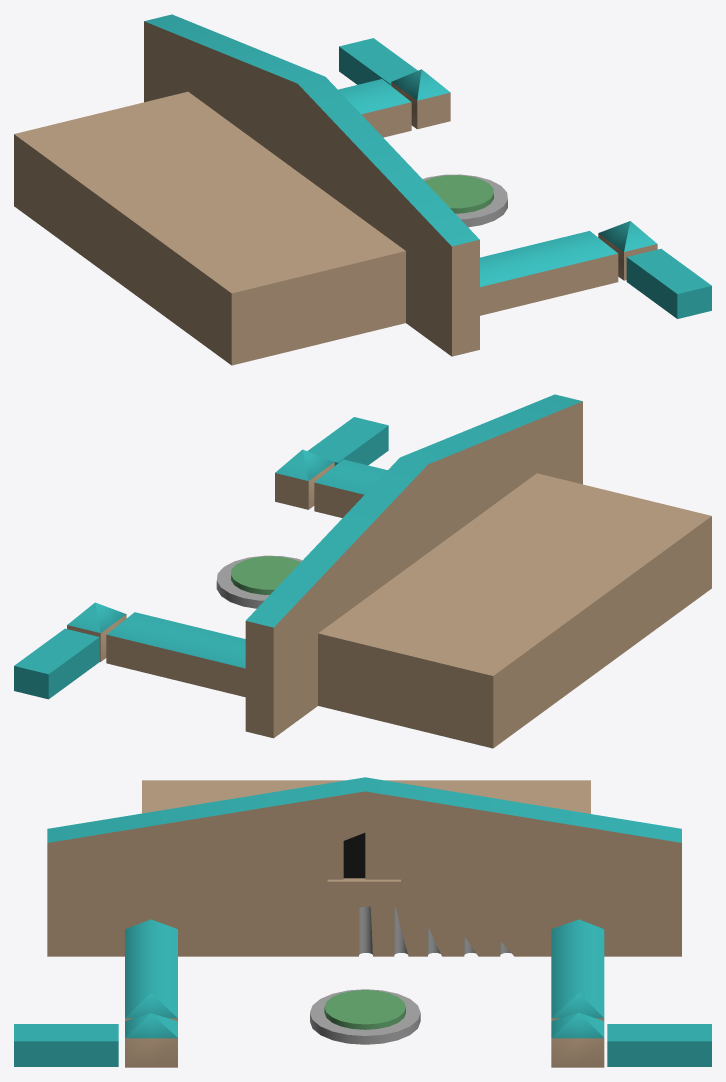
File: square1.fbx
The picture shows the model from 3 angles, top to bottom: view 1: azimuth 30°, elevation 25°; view 2: azimuth 150°, elevation 25°; view 3: azimuth 270°, elevation 25°; orthographic projection. The views are drawn at different scales.
Parts seen in each view (by area): view 1: pCube21; view 2: pCube21; view 3: pCube21.
Boxes of the visible parts, x1,y1,x2,y2 form: pCube21: (14,14,711,365); pCube21: (14,394,711,748); pCube21: (14,777,711,1067).
Size of the model in its own units: 14.03 by 5.22 by 19.67.
